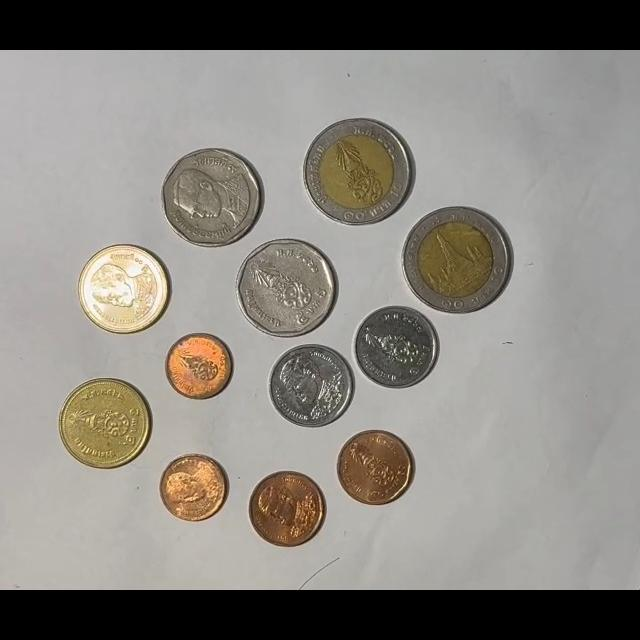1-baht: (353, 305, 439, 390), (268, 343, 353, 428)
10-baht: (303, 118, 414, 227), (402, 206, 512, 314)
2-baht: (58, 377, 151, 469), (77, 244, 170, 336)
25-satang: (159, 454, 230, 523), (166, 332, 234, 399)
5-baht: (161, 148, 264, 248), (236, 238, 337, 338)
50-satang: (248, 470, 325, 548), (336, 429, 414, 506)
